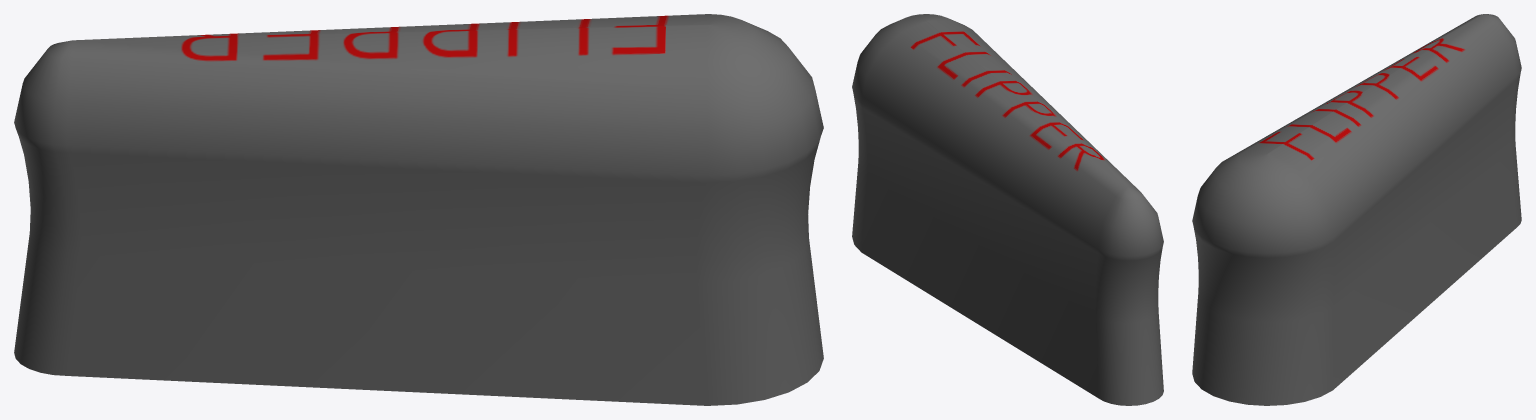
File: LFlip.fbx
3 views of the same model, side by side, from view 1: azimuth 30°, elevation 25°; view 2: azimuth 150°, elevation 25°; view 3: azimuth 270°, elevation 25° (orthographic). The views are drawn at different scales.
Visible parts, largest first — view 1: LFlip; view 2: LFlip; view 3: LFlip.
Part boxes in pixels (x1,y1,x2,y2): LFlip: (14, 14, 823, 405); LFlip: (852, 14, 1163, 405); LFlip: (1192, 14, 1521, 405).
Bounding box in the file's own units: 5.03 × 2.57 × 3.49.
1 material, 1 textured.
